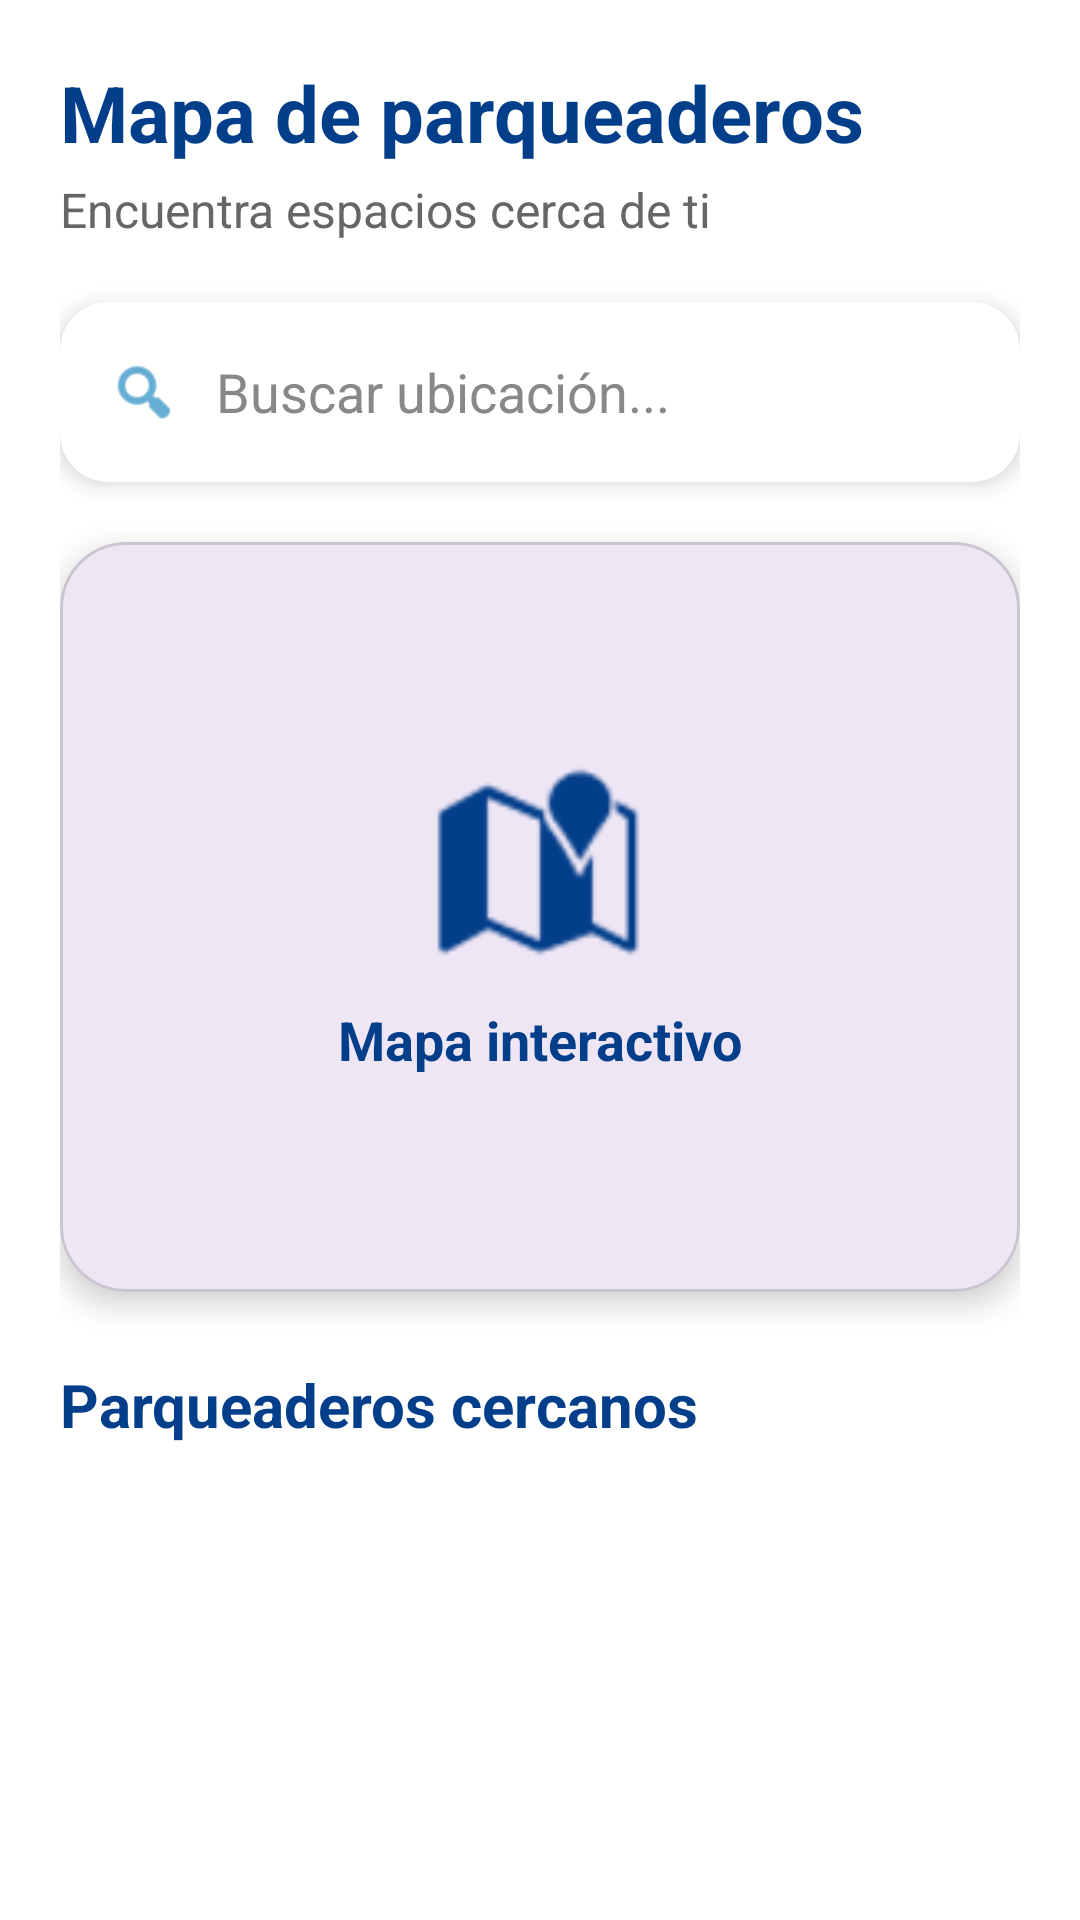

Icons on this 1080*1920 Android screen, each with the point to tap as [x,y]:
search: [144,392]
